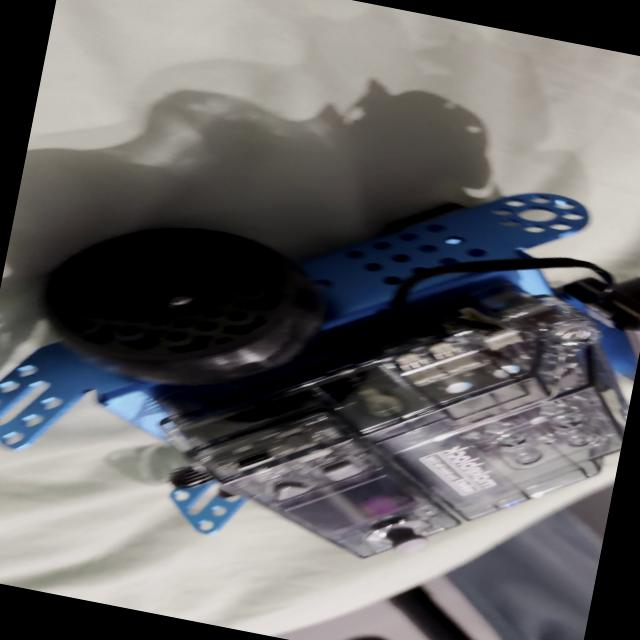mbot-detection: (0, 85, 640, 618)
